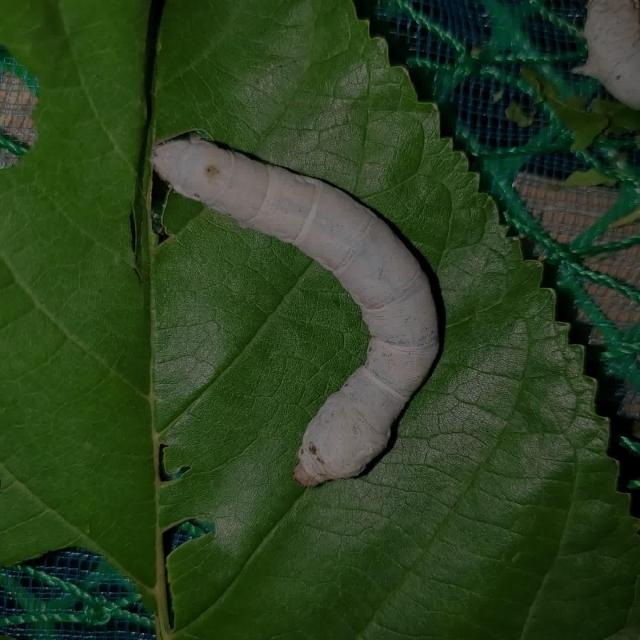Healthy: (141, 120, 451, 499)
